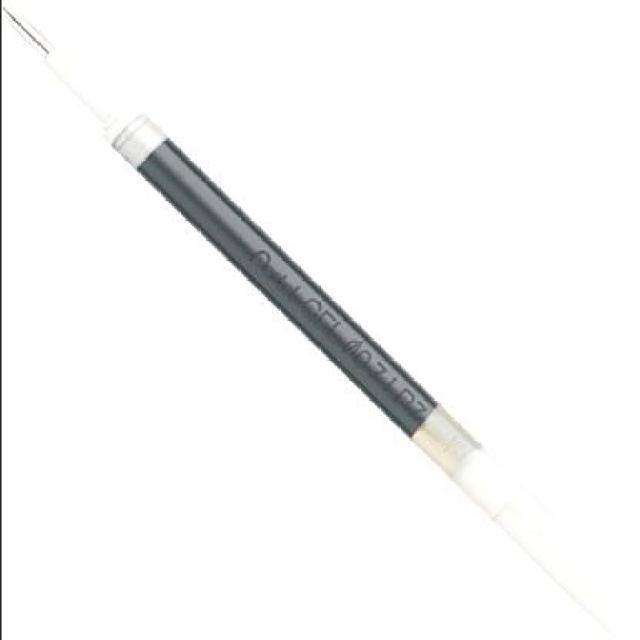pen: (5, 7, 629, 640)
